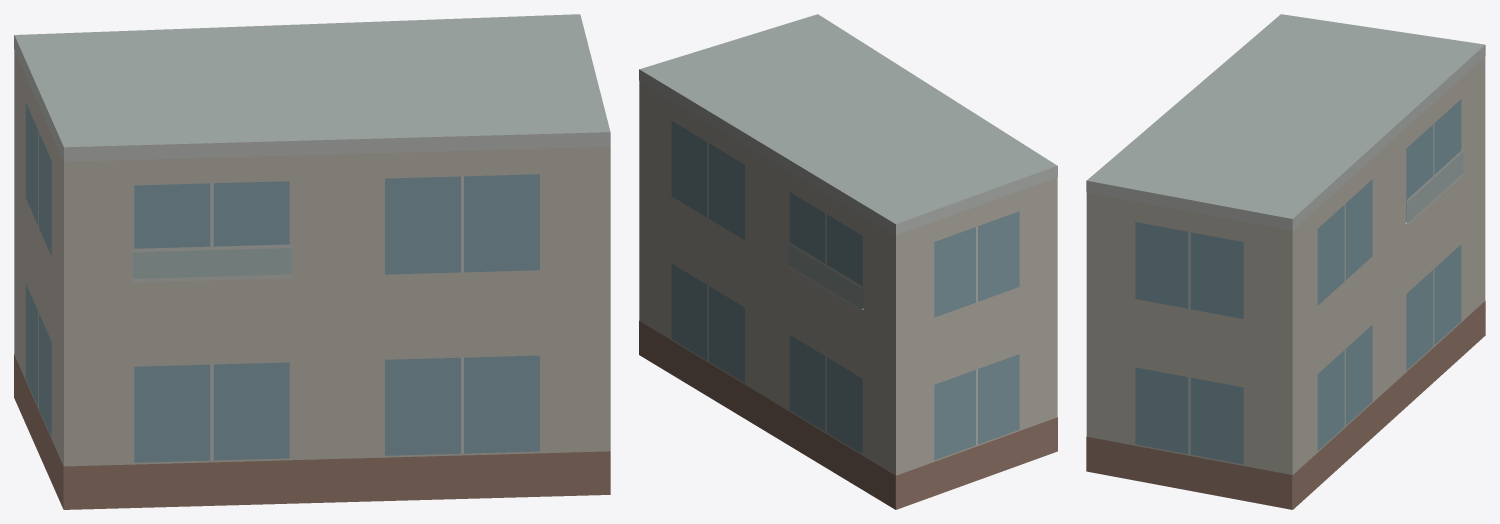
Rendered from survey-upis-32491670.glb.
3 views of the same model, side by side, from view 1: azimuth 30°, elevation 25°; view 2: azimuth 150°, elevation 25°; view 3: azimuth 270°, elevation 25° (orthographic). The views are drawn at different scales.
Parts seen in each view (by area): view 1: survey-upis-32491670.tmp; view 2: survey-upis-32491670.tmp; view 3: survey-upis-32491670.tmp.
Boxes of the visible parts, left/top/right/bottom form: survey-upis-32491670.tmp: left=14, top=14, right=610, bottom=509; survey-upis-32491670.tmp: left=639, top=14, right=1057, bottom=509; survey-upis-32491670.tmp: left=1086, top=14, right=1485, bottom=509.
Size of the model in its own units: 9.23 by 6.1 by 7.59.
